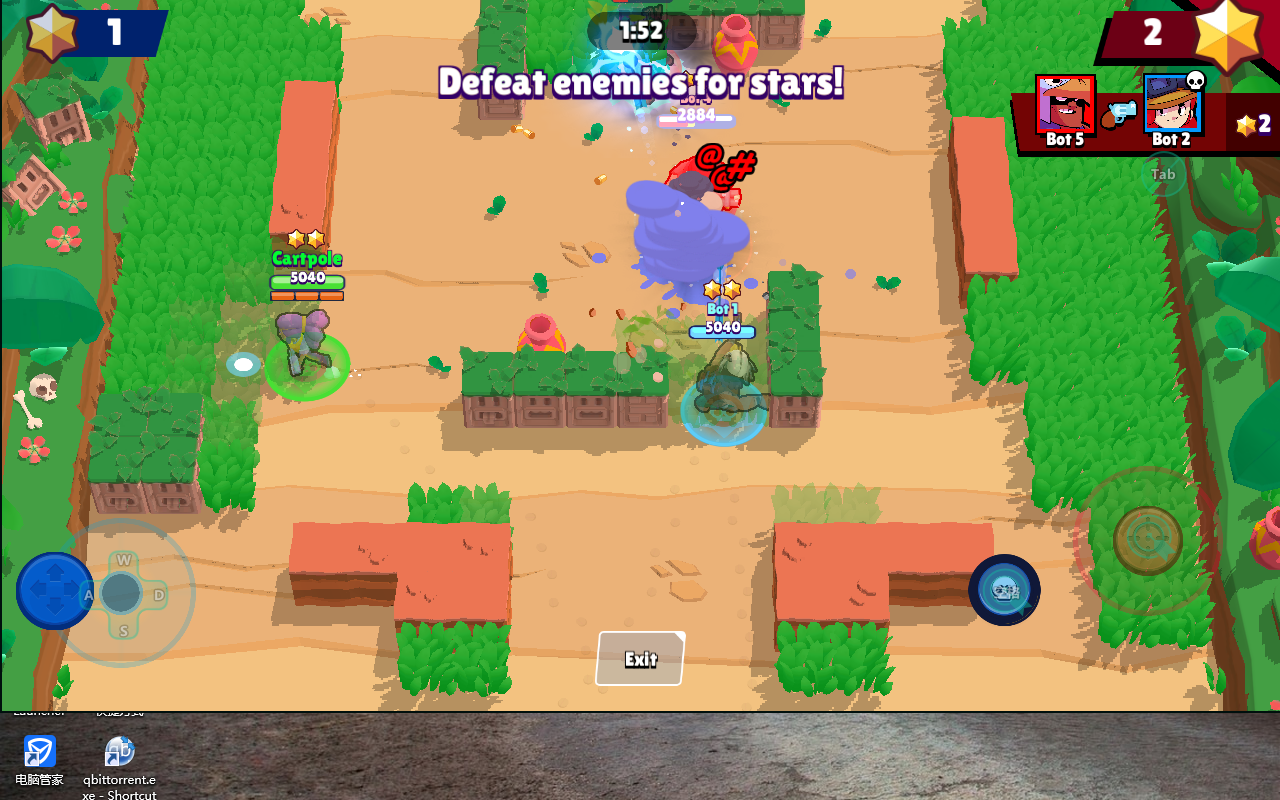current_player: (264, 337, 349, 402)
